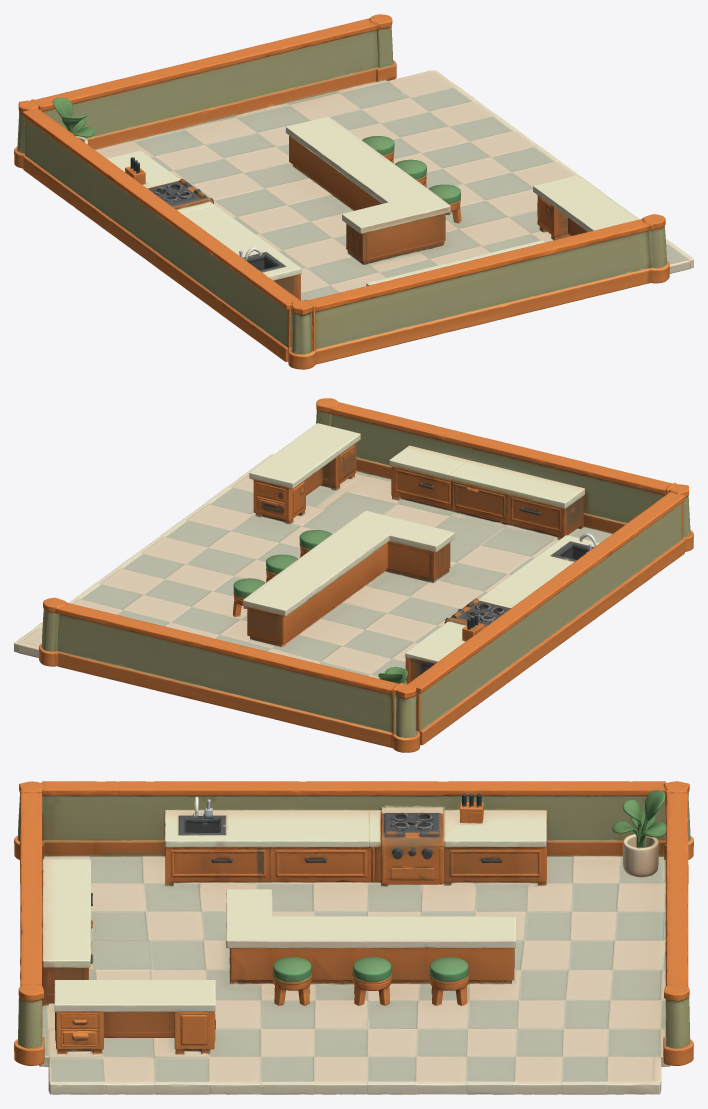
File: sushi-room-v10-fixtures-v3b.glb
3 views of the same model, one above another, from view 1: azimuth 30°, elevation 25°; view 2: azimuth 150°, elevation 25°; view 3: azimuth 270°, elevation 25° (orthographic). The views are drawn at different scales.
Visible parts, largest first — view 1: tripo_node_baa46c4d-e804-4763-b705-cc7467c62be8; view 2: tripo_node_baa46c4d-e804-4763-b705-cc7467c62be8; view 3: tripo_node_baa46c4d-e804-4763-b705-cc7467c62be8.
Boxes of the visible parts, x1,y1,x2,y2 form: tripo_node_baa46c4d-e804-4763-b705-cc7467c62be8: (14,14,693,369); tripo_node_baa46c4d-e804-4763-b705-cc7467c62be8: (14,398,693,752); tripo_node_baa46c4d-e804-4763-b705-cc7467c62be8: (14,781,693,1094).
Size of the model in its own units: 6 by 0.9982 by 7.25.
2 materials, 2 textured.
